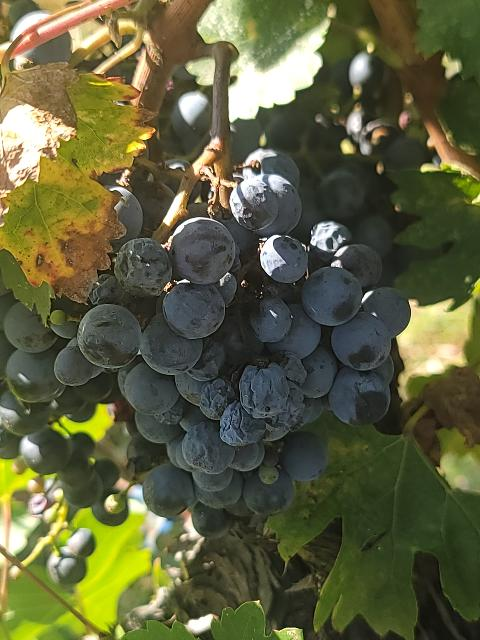grapes: (55, 150, 410, 539)
